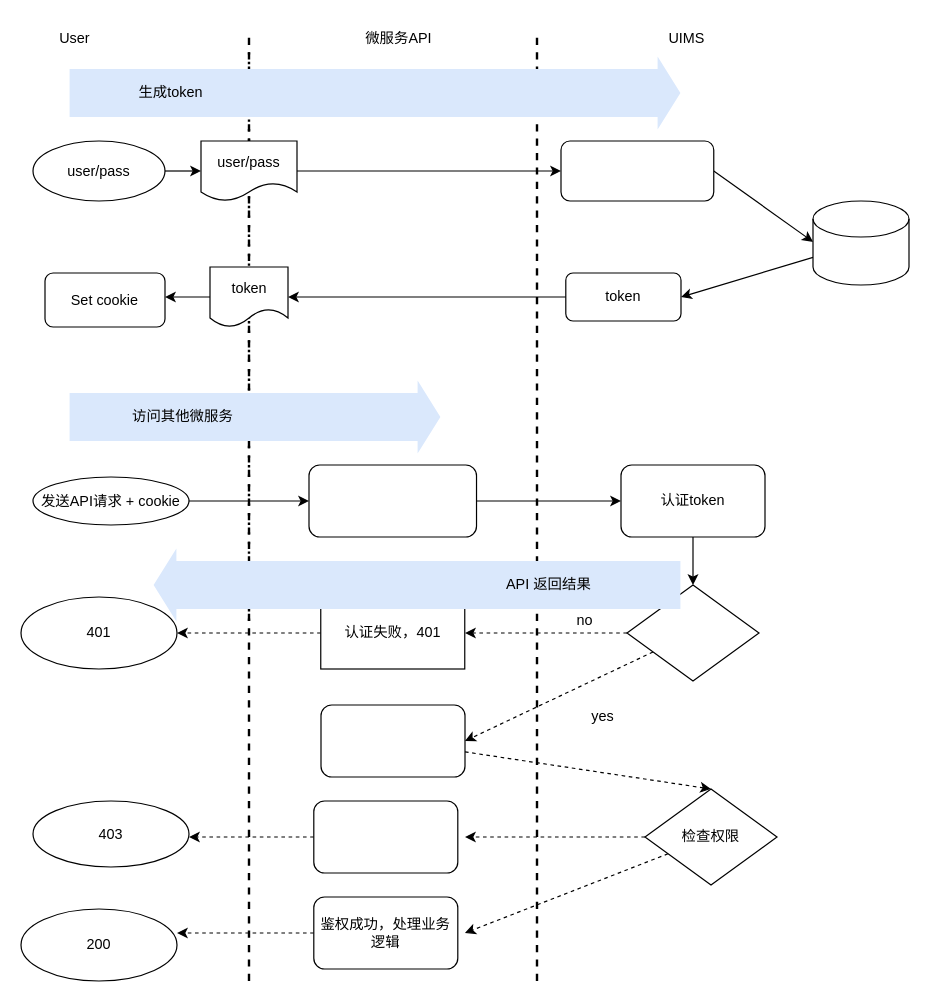
The diagram is 930 pixels wide and 1003 high, and some of its shapes have lost their labels. The shapes that lost their labels are listed below. From the top down, each one's centre as x and y in pixels, then its label:
[637,170]: verify password
[860,242]: DB
[392,500]: 获取token from cookie
[692,632]: 解析，验证token
[392,740]: 认证成功
[385,836]: 鉴权失败，403
